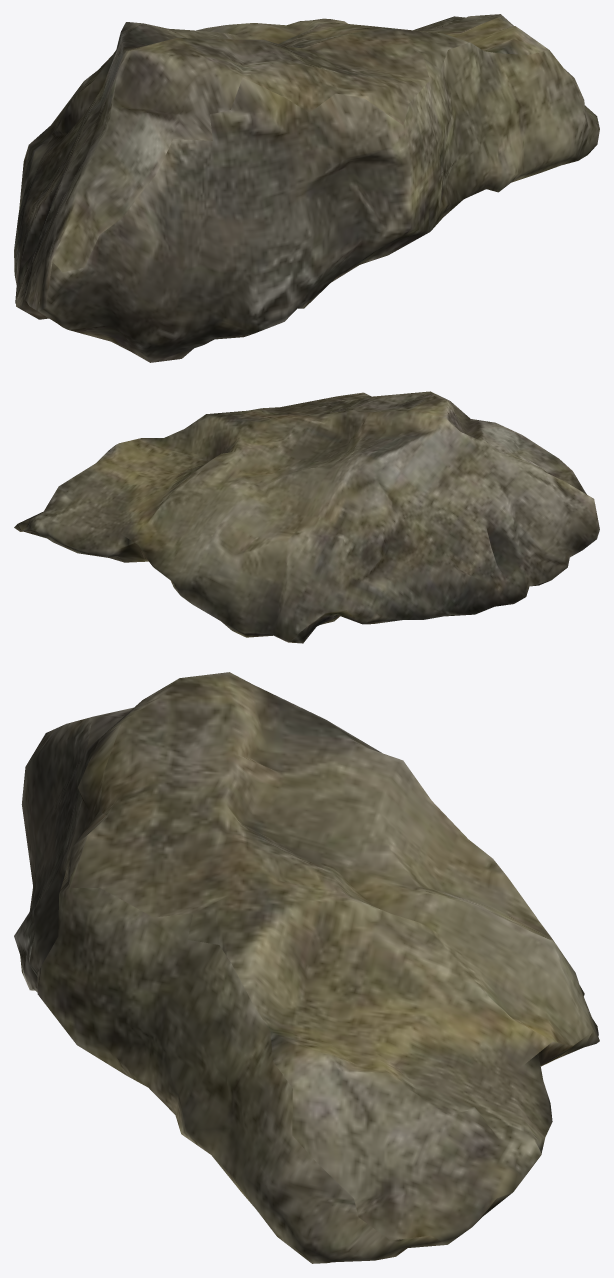
File: mossrock_s1.gltf
3 views of the same model, one above another, from view 1: azimuth 30°, elevation 25°; view 2: azimuth 150°, elevation 25°; view 3: azimuth 270°, elevation 25° (orthographic). The views are drawn at different scales.
Parts seen in each view (by area): view 1: mossrock_s1; view 2: mossrock_s1; view 3: mossrock_s1.
Boxes of the visible parts, x1=… form: mossrock_s1: x1=14, y1=14, x2=599, y2=362; mossrock_s1: x1=14, y1=391, x2=599, y2=643; mossrock_s1: x1=14, y1=672, x2=599, y2=1263.
Size of the model in its own units: 1.62 by 0.6081 by 1.01.
1 material, 1 textured.
